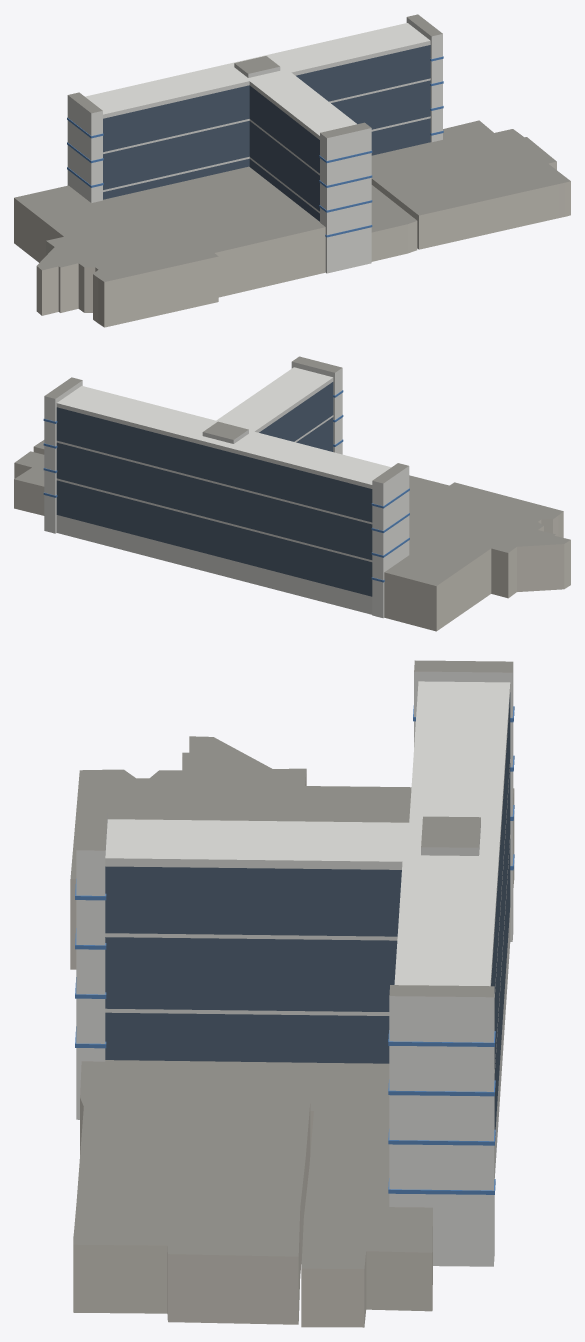
File: horseshoe_las_vegas_ho_w116867081.glb
The picture shows the model from 3 angles, top to bottom: view 1: azimuth 30°, elevation 25°; view 2: azimuth 150°, elevation 25°; view 3: azimuth 270°, elevation 25°; orthographic projection. The views are drawn at different scales.
Visible parts, largest first — view 1: Tower_w116867081; view 2: Tower_w116867081; view 3: Tower_w116867081.
Boxes of the visible parts, x1,y1,x2,y2 form: Tower_w116867081: [14, 14, 570, 327]; Tower_w116867081: [14, 356, 570, 631]; Tower_w116867081: [70, 660, 514, 1327].
Bounding box in the file's own units: 327 × 82 × 122.
